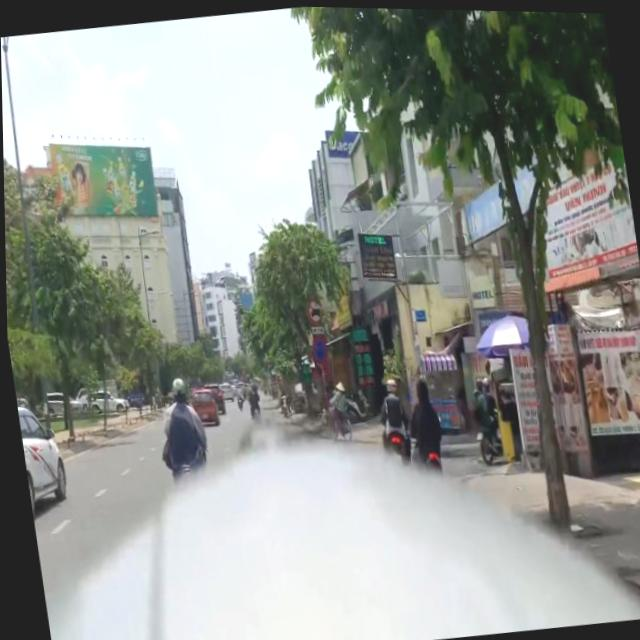Cam do xe: (309, 332, 327, 363)
Cam xe tai: (304, 294, 323, 326)
